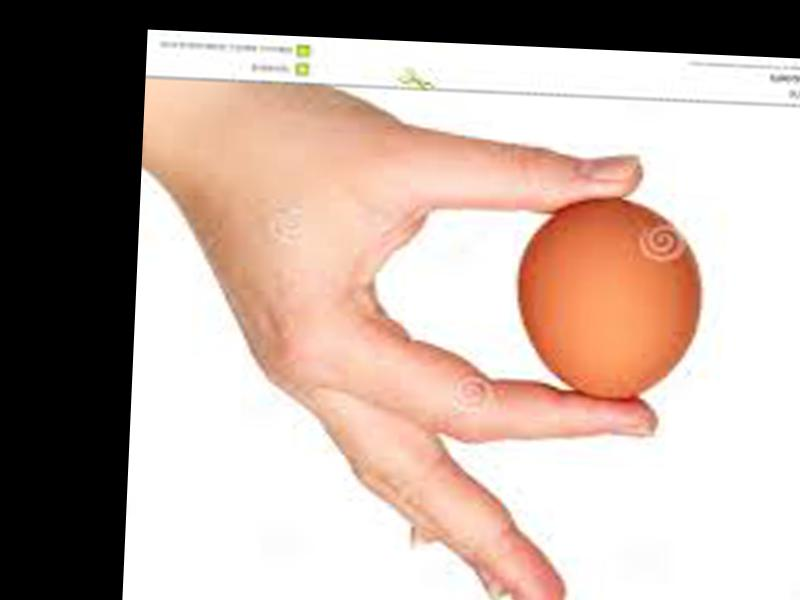Eggs: (509, 192, 707, 404)
